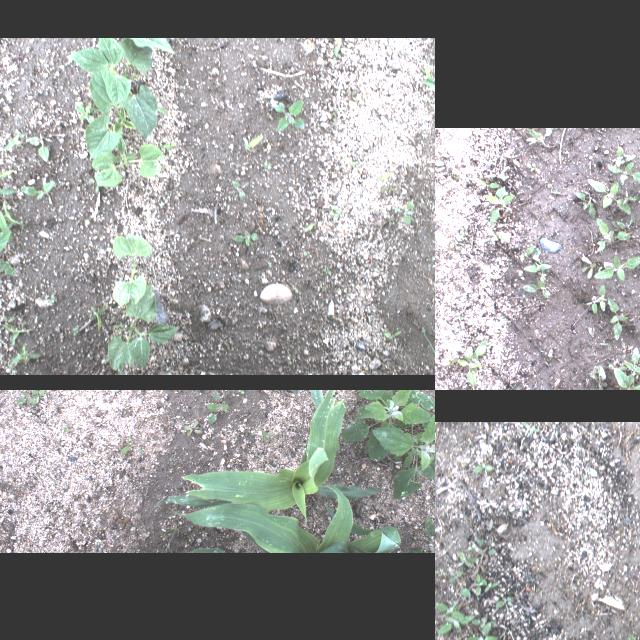crop: (181, 390, 378, 524), (150, 486, 402, 552), (66, 38, 176, 138), (108, 284, 180, 374), (86, 65, 136, 158), (92, 134, 164, 186), (113, 234, 151, 306), (187, 546, 226, 552)
weed: (341, 390, 431, 461), (379, 408, 435, 499), (586, 178, 632, 214), (459, 338, 488, 388), (482, 186, 518, 226), (0, 161, 18, 239), (593, 218, 631, 252), (592, 255, 640, 279), (270, 98, 304, 130), (407, 515, 435, 552), (0, 227, 16, 290), (9, 343, 41, 373), (523, 248, 551, 280), (608, 298, 628, 340), (605, 161, 640, 184), (206, 390, 230, 423), (574, 189, 598, 219), (1, 324, 33, 346), (26, 129, 48, 161), (437, 616, 475, 634), (3, 197, 24, 229), (20, 181, 56, 199), (611, 368, 640, 390), (466, 621, 498, 640), (525, 127, 553, 147), (588, 283, 606, 313), (394, 200, 414, 226), (119, 434, 145, 454), (90, 300, 106, 332), (624, 346, 640, 375), (17, 390, 52, 403), (230, 229, 258, 245), (419, 64, 435, 92), (436, 602, 464, 618), (589, 364, 606, 390), (523, 280, 549, 296), (162, 526, 178, 552), (435, 150, 450, 177), (76, 103, 94, 125), (423, 390, 435, 423), (580, 255, 596, 279), (615, 145, 635, 163), (458, 549, 478, 567), (611, 215, 633, 231), (183, 419, 203, 436), (472, 461, 496, 474), (472, 616, 498, 628), (479, 578, 501, 592), (5, 132, 22, 150), (243, 135, 264, 149), (442, 164, 460, 180), (451, 313, 467, 331), (518, 244, 534, 262), (502, 150, 520, 166), (260, 430, 280, 444), (474, 178, 501, 188), (484, 170, 510, 180), (523, 422, 541, 436), (232, 180, 244, 200), (438, 357, 458, 368), (458, 222, 470, 240), (488, 230, 506, 242), (473, 574, 482, 596), (620, 342, 632, 358), (496, 595, 512, 607), (383, 330, 402, 340), (474, 536, 491, 546), (450, 240, 466, 250), (477, 547, 497, 555), (0, 166, 14, 177), (450, 570, 462, 582), (334, 37, 341, 57), (622, 194, 638, 202), (331, 205, 341, 217), (435, 213, 441, 233), (250, 424, 262, 434), (608, 364, 626, 370), (460, 587, 470, 597), (525, 163, 537, 171), (495, 634, 511, 640), (435, 567, 447, 575), (63, 421, 71, 432), (628, 633, 640, 640), (468, 540, 476, 550), (518, 271, 526, 279), (488, 520, 494, 528), (596, 265, 602, 271), (254, 453, 262, 457), (638, 268, 640, 279), (237, 390, 244, 393)
